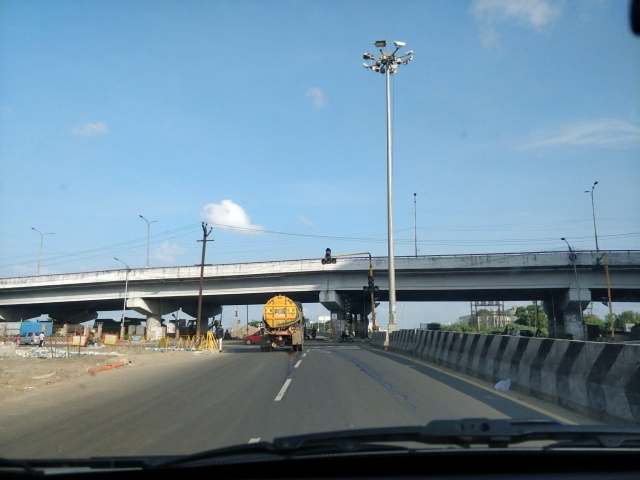car: (16, 332, 39, 347), (246, 327, 263, 346)
motorbike: (341, 329, 356, 345), (310, 321, 318, 340)
truck: (261, 296, 305, 353)
